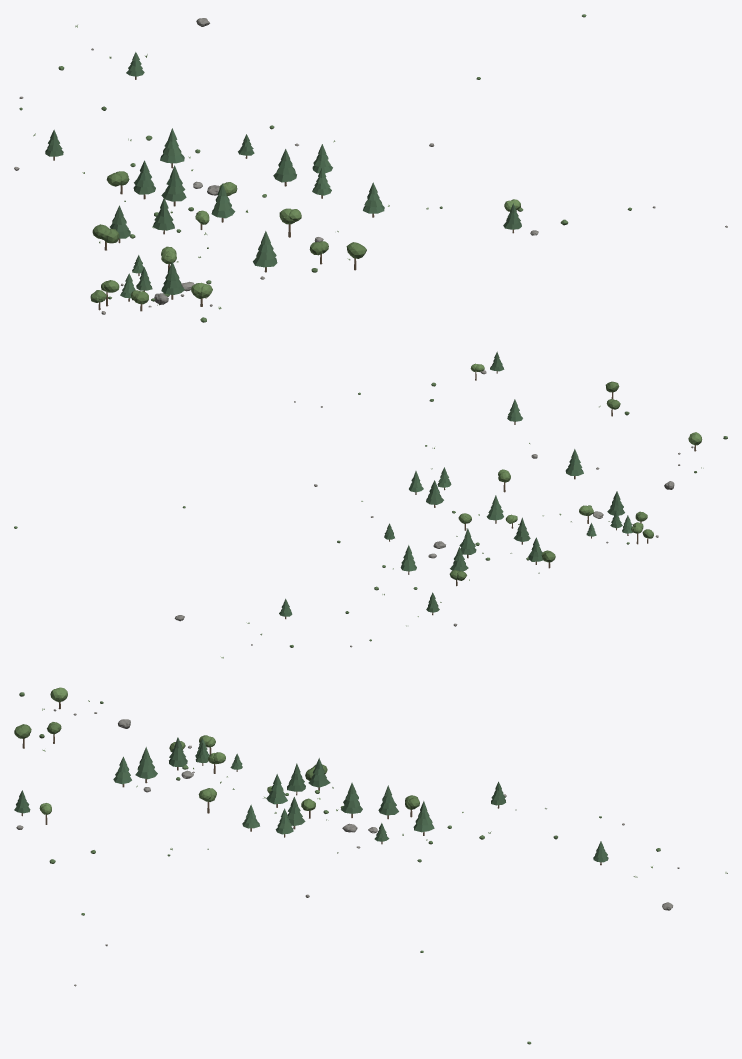
Rendered from arch_land_scatter_c18_17.glb.
The picture shows the model from 3 angles, top to bottom: view 1: azimuth 30°, elevation 25°; view 2: azimuth 150°, elevation 25°; view 3: azimuth 270°, elevation 25°; orthographic projection. The views are drawn at different scales.
Parts seen in each view (by area): view 1: arch_land_scatter_c18_17; view 2: arch_land_scatter_c18_17; view 3: arch_land_scatter_c18_17.
Part boxes in pixels (x1,y1,x2,y2): arch_land_scatter_c18_17: (14, 14, 727, 322); arch_land_scatter_c18_17: (14, 351, 727, 658); arch_land_scatter_c18_17: (14, 687, 727, 1044).
Bounding box in the file's own units: 244 × 39.98 × 254.
